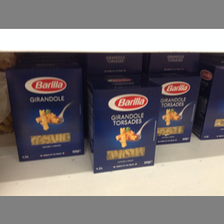pasta: (6, 63, 84, 162), (88, 76, 163, 174), (151, 74, 202, 145)
